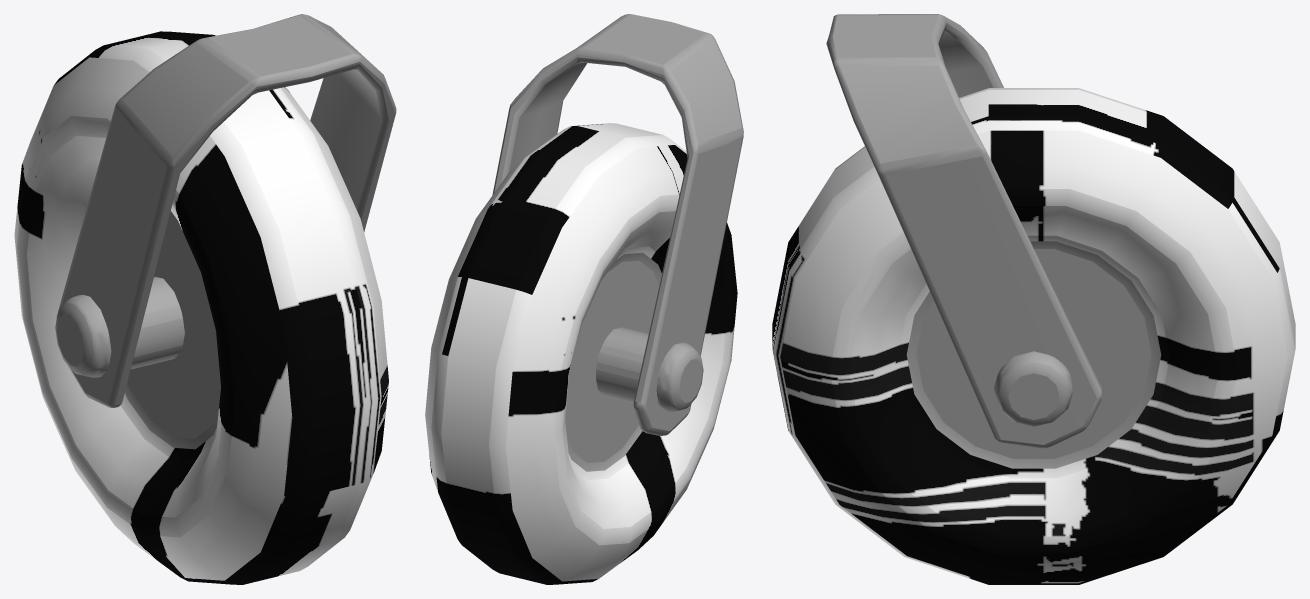
The model's file is swivel_wheel_polished.fbx.
The picture shows the model from 3 angles, left to right: view 1: azimuth 30°, elevation 25°; view 2: azimuth 150°, elevation 25°; view 3: azimuth 270°, elevation 25°; orthographic projection. The views are drawn at different scales.
Parts seen in each view (by area): view 1: Cylinder, Cube; view 2: Cylinder, Cube; view 3: Cylinder, Cube.
Boxes of the visible parts, <box> form: Cylinder: <box>14,31,388,584</box>; Cube: <box>55,14,396,407</box>; Cylinder: <box>425,123,737,584</box>; Cube: <box>492,14,743,435</box>; Cylinder: <box>772,88,1295,584</box>; Cube: <box>826,14,1102,448</box>.
Size of the model in its own units: 14.04 by 29.05 by 25.81.
